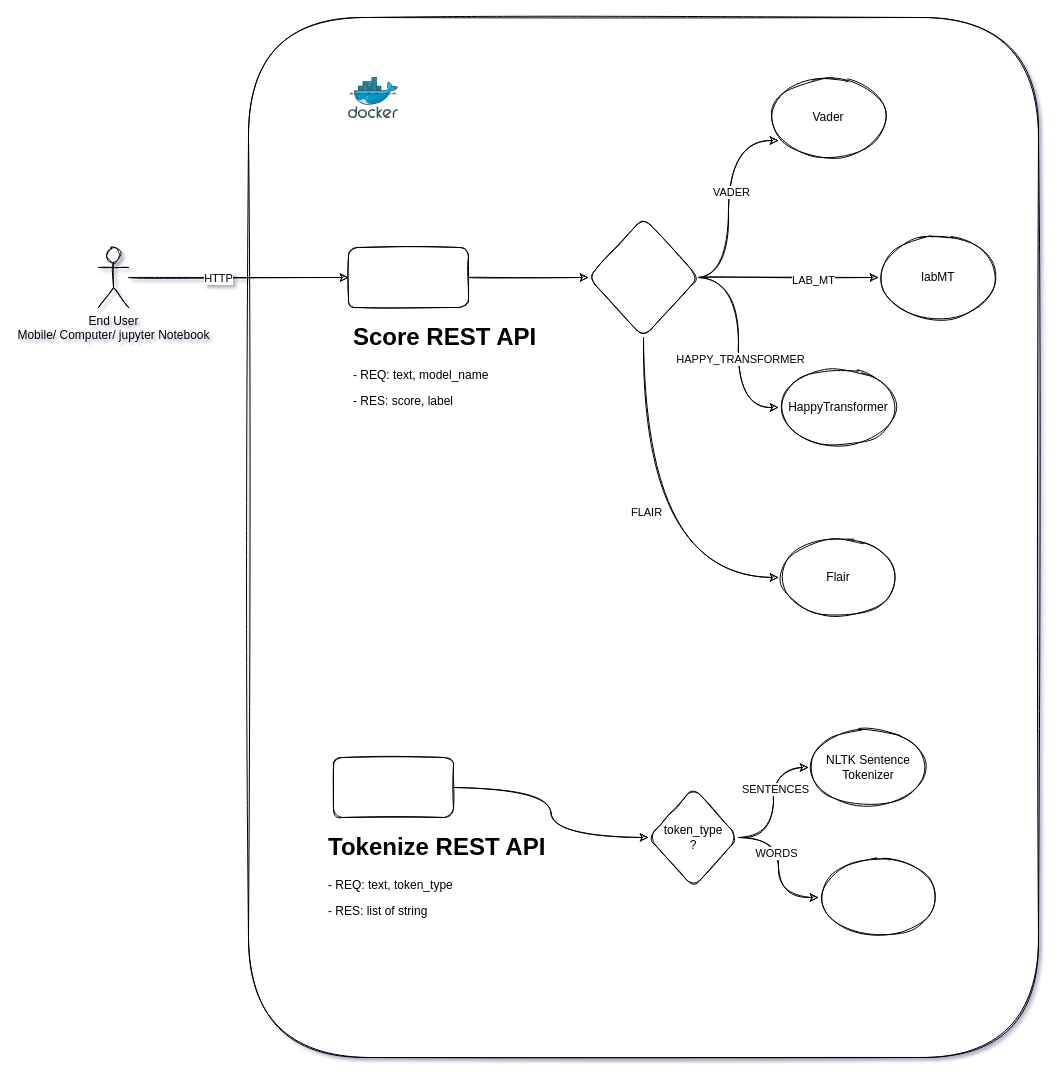
Image size: 1062x1081. Some labels were removed from this diagram. Here are the shapes that lost their labels. From the top down, the box of each, then its label:
(348, 246, 468, 308): score REST API /sentiment-scores
(588, 216, 698, 338): model_name ?
(332, 756, 454, 818): tokenize REST API /tokenize
(818, 856, 938, 938): NLTK Words Tokenizer
